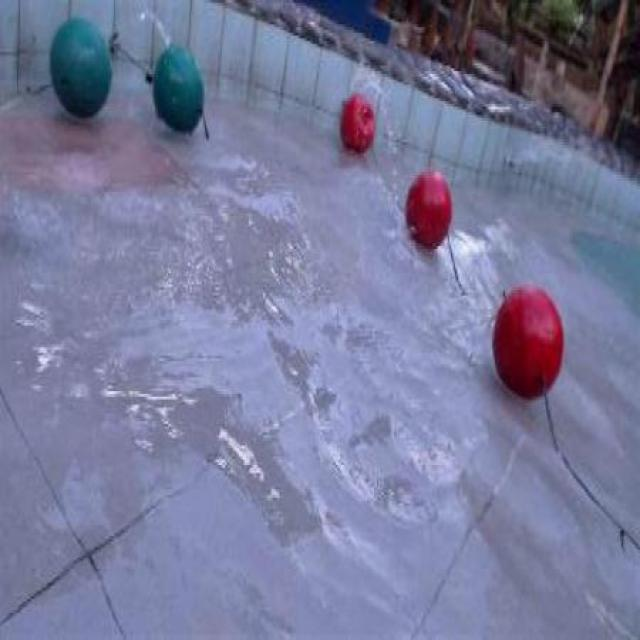buoy: (491, 284, 564, 400), (46, 13, 110, 118), (151, 43, 203, 132), (404, 166, 451, 249), (340, 92, 374, 148)
